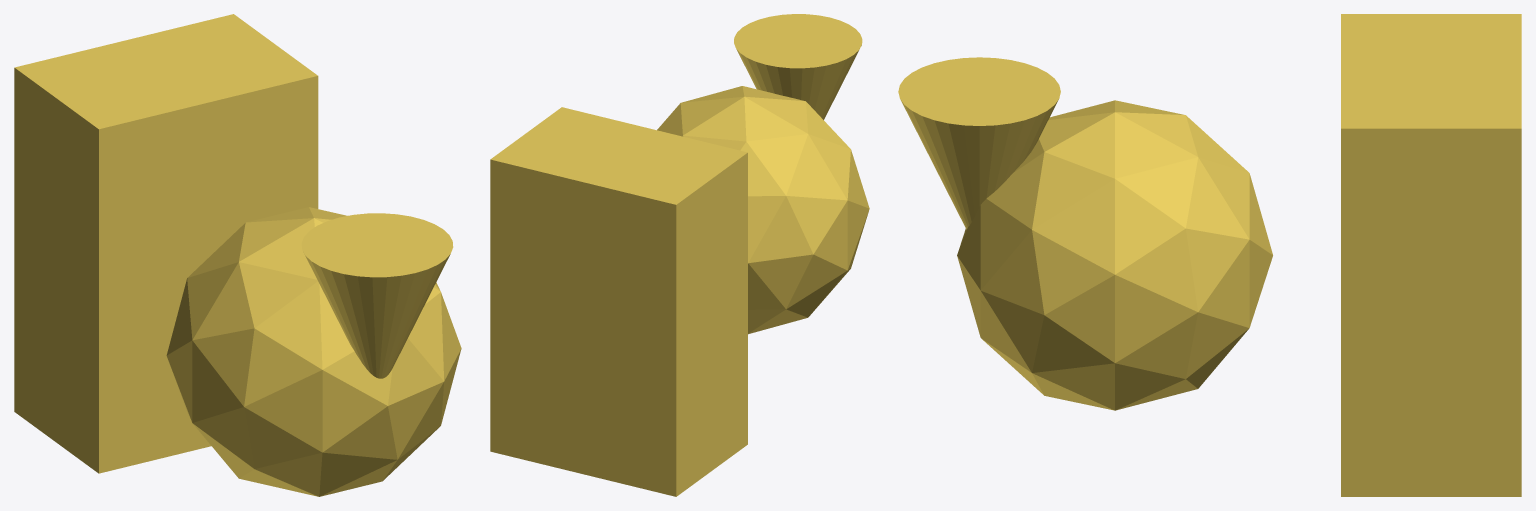
The model's file is duckkov_enemy.gltf.
The picture shows the model from 3 angles, left to right: view 1: azimuth 30°, elevation 25°; view 2: azimuth 150°, elevation 25°; view 3: azimuth 270°, elevation 25°; orthographic projection. The views are drawn at different scales.
Parts seen in each view (by area): view 1: DuckKovEnemy; view 2: DuckKovEnemy; view 3: DuckKovEnemy.
Boxes of the visible parts, left/top/right/bottom form: DuckKovEnemy: left=14, top=14, right=461, bottom=496; DuckKovEnemy: left=490, top=14, right=869, bottom=496; DuckKovEnemy: left=898, top=14, right=1521, bottom=496.
Bounding box in the file's own units: 0.6657 × 0.9 × 1.38.
